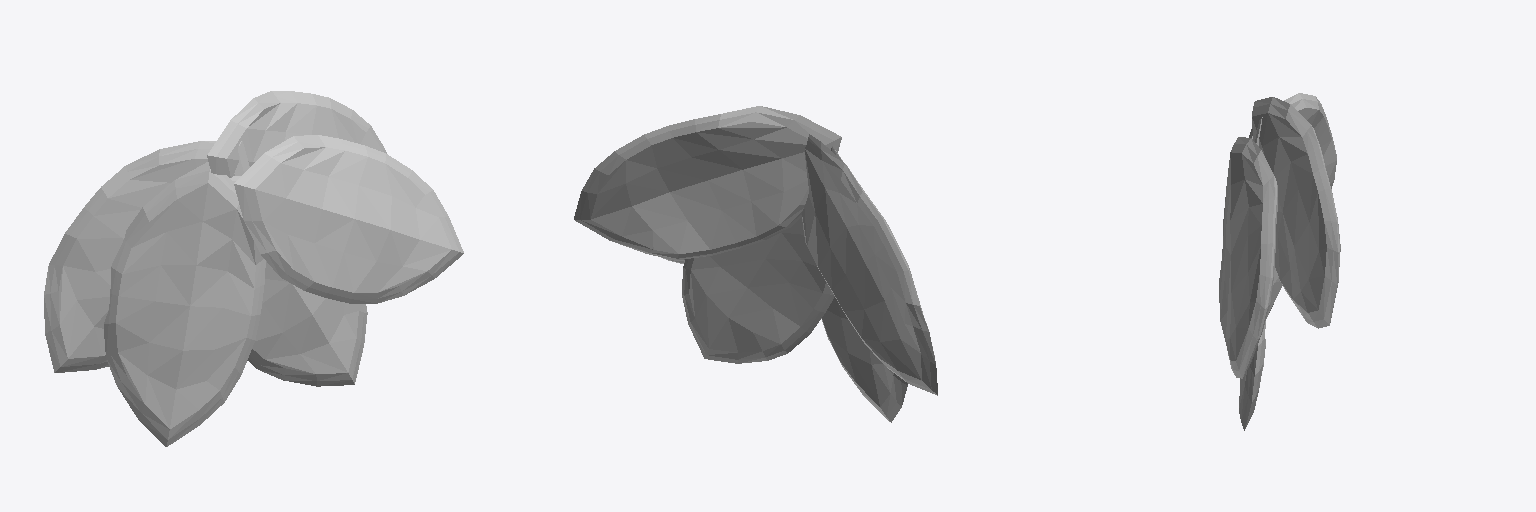
Rendered from leaf.obj.
3 views of the same model, side by side, from view 1: azimuth 30°, elevation 25°; view 2: azimuth 150°, elevation 25°; view 3: azimuth 270°, elevation 25° (orthographic).
Parts seen in each view (by area): view 1: pCube4, pCube5, pCube2, pCube1, pCube3; view 2: pCube3, pCube2, pCube1, pCube4; view 3: pCube3, pCube5, pCube2, pCube1.
Part boxes in pixels (left/top/right/bottom): pCube4: left=104, top=162, right=265, bottom=446; pCube5: left=234, top=135, right=463, bottom=303; pCube2: left=44, top=141, right=249, bottom=372; pCube1: left=230, top=176, right=367, bottom=386; pCube3: left=207, top=91, right=386, bottom=177; pCube3: left=574, top=106, right=841, bottom=259; pCube2: left=802, top=134, right=937, bottom=395; pCube1: left=682, top=217, right=834, bottom=363; pCube4: left=821, top=146, right=907, bottom=422; pCube3: left=1252, top=97, right=1340, bottom=328; pCube5: left=1219, top=137, right=1277, bottom=378; pCube2: left=1254, top=93, right=1336, bottom=188; pCube1: left=1239, top=140, right=1265, bottom=430.
Size of the model in its own units: 1.3 by 1.01 by 0.3614.